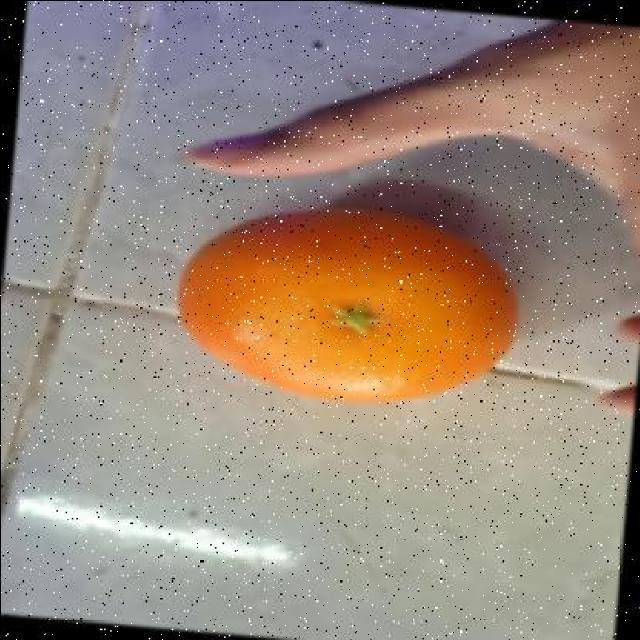Orange: (176, 206, 520, 406)
